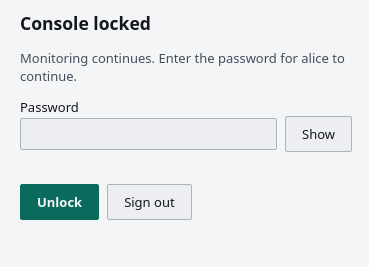
Test: Lock › unlocks with the password, and shows why when it is wrong
In the password field labelled "Password": [148, 134] box [20,118,277,150], type "nope nope nope"
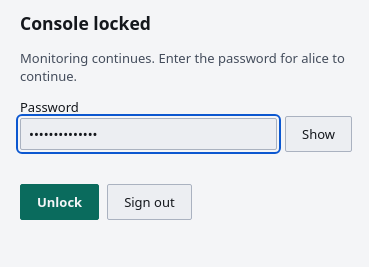
Click the button "Unlock": [60, 202] box [20,184,99,220]
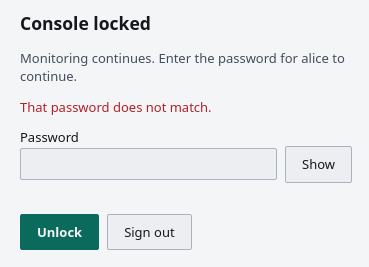
Check: the message reads "That password does not match.", box [20,98,212,116]
